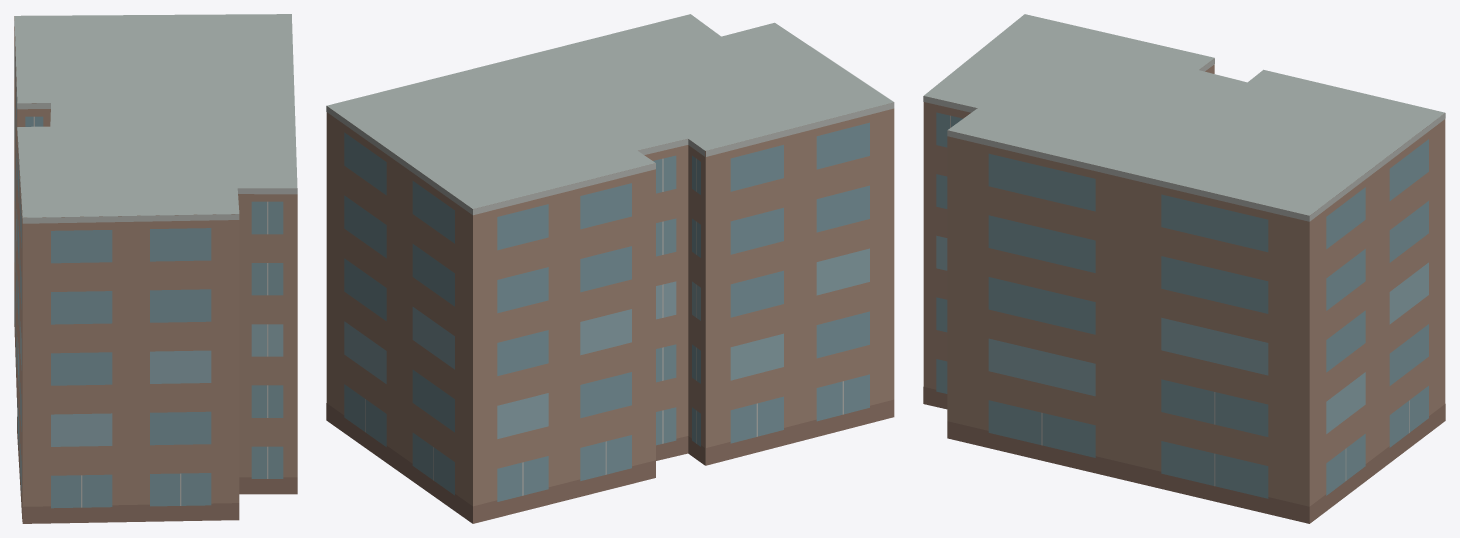
The model's file is survey-upis-32623809.glb.
3 views of the same model, side by side, from view 1: azimuth 30°, elevation 25°; view 2: azimuth 150°, elevation 25°; view 3: azimuth 270°, elevation 25° (orthographic). The views are drawn at different scales.
Parts seen in each view (by area): view 1: survey-upis-32623809.tmp; view 2: survey-upis-32623809.tmp; view 3: survey-upis-32623809.tmp.
Part boxes in pixels (x1=…): survey-upis-32623809.tmp: x1=14, y1=14, x2=297, y2=523; survey-upis-32623809.tmp: x1=326, y1=14, x2=894, y2=523; survey-upis-32623809.tmp: x1=923, y1=14, x2=1445, y2=523.
Size of the model in its own units: 17.56 by 12.5 by 19.2.
